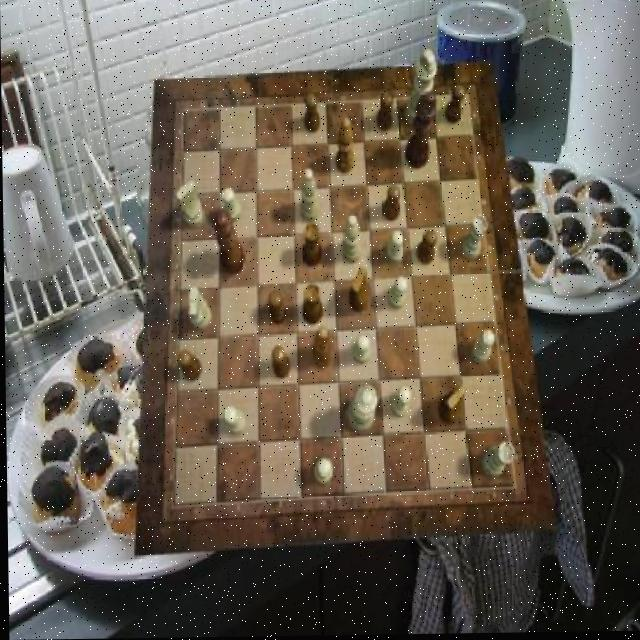bishop: (334, 119, 354, 175), (310, 327, 330, 370)
black-bishop: (404, 92, 438, 170)
black-king: (437, 387, 465, 427), (346, 268, 367, 314)
black-knight: (444, 87, 465, 126), (176, 351, 200, 383), (415, 230, 436, 265), (376, 94, 394, 132), (381, 186, 399, 223), (304, 95, 320, 135), (271, 346, 289, 380), (267, 292, 285, 326)
black-pawn: (210, 209, 243, 275)
black-queen: (300, 224, 320, 268), (301, 285, 322, 326)
black-rook: (299, 169, 318, 223), (341, 216, 360, 265)
white-bishop: (403, 50, 437, 128)
white-king: (174, 181, 202, 229), (186, 288, 210, 331)
white-knight: (470, 331, 493, 366), (387, 387, 410, 419), (219, 188, 240, 223), (386, 277, 407, 311), (222, 408, 245, 436), (385, 232, 403, 267), (351, 337, 370, 365), (312, 459, 332, 485)
white-pawn: (345, 386, 376, 434)
white-queen: (460, 216, 488, 261), (479, 443, 512, 478)
